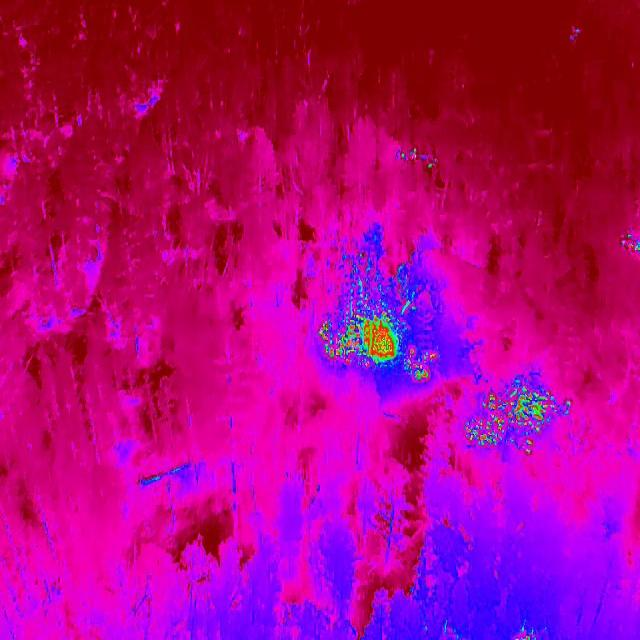fire: (463, 378, 573, 458), (317, 306, 401, 386), (404, 346, 442, 386), (401, 146, 438, 170), (617, 230, 640, 254), (568, 25, 580, 41), (522, 634, 530, 640)
